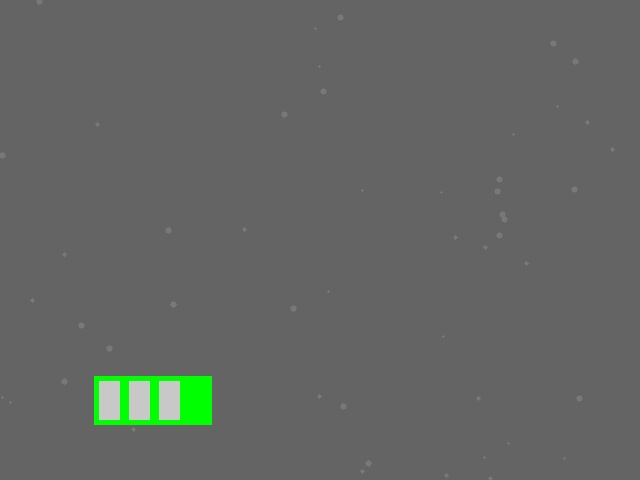bus: (94, 376, 211, 424)
